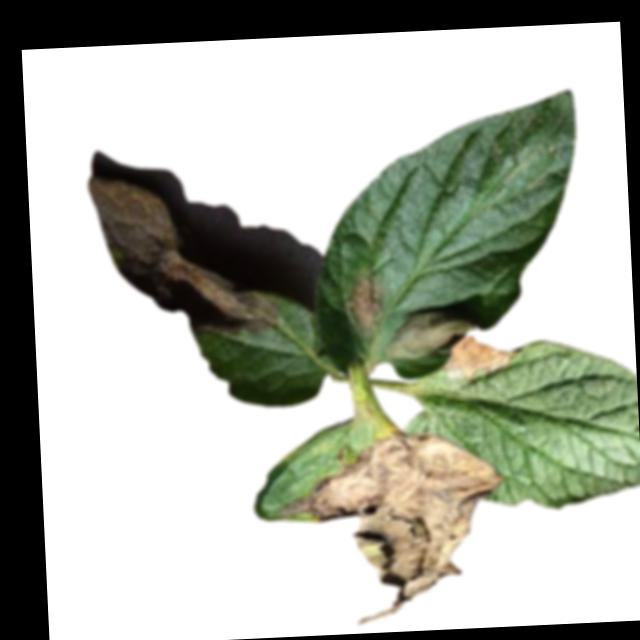Late_blight: (268, 428, 512, 628), (84, 168, 281, 345), (379, 308, 479, 360), (440, 333, 515, 379), (341, 272, 384, 336)
